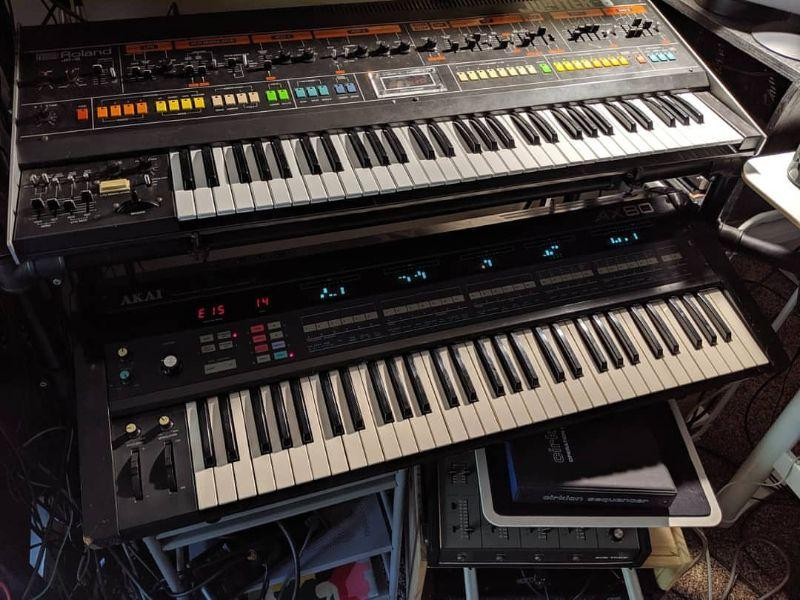synthesizer: (79, 277, 760, 495), (17, 39, 777, 196)
